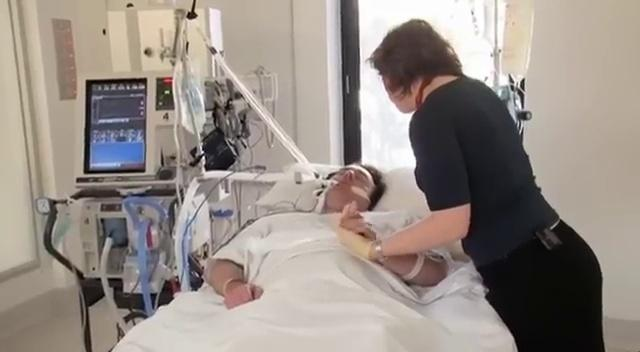others: (334, 17, 607, 351)
patient: (199, 160, 451, 311)
